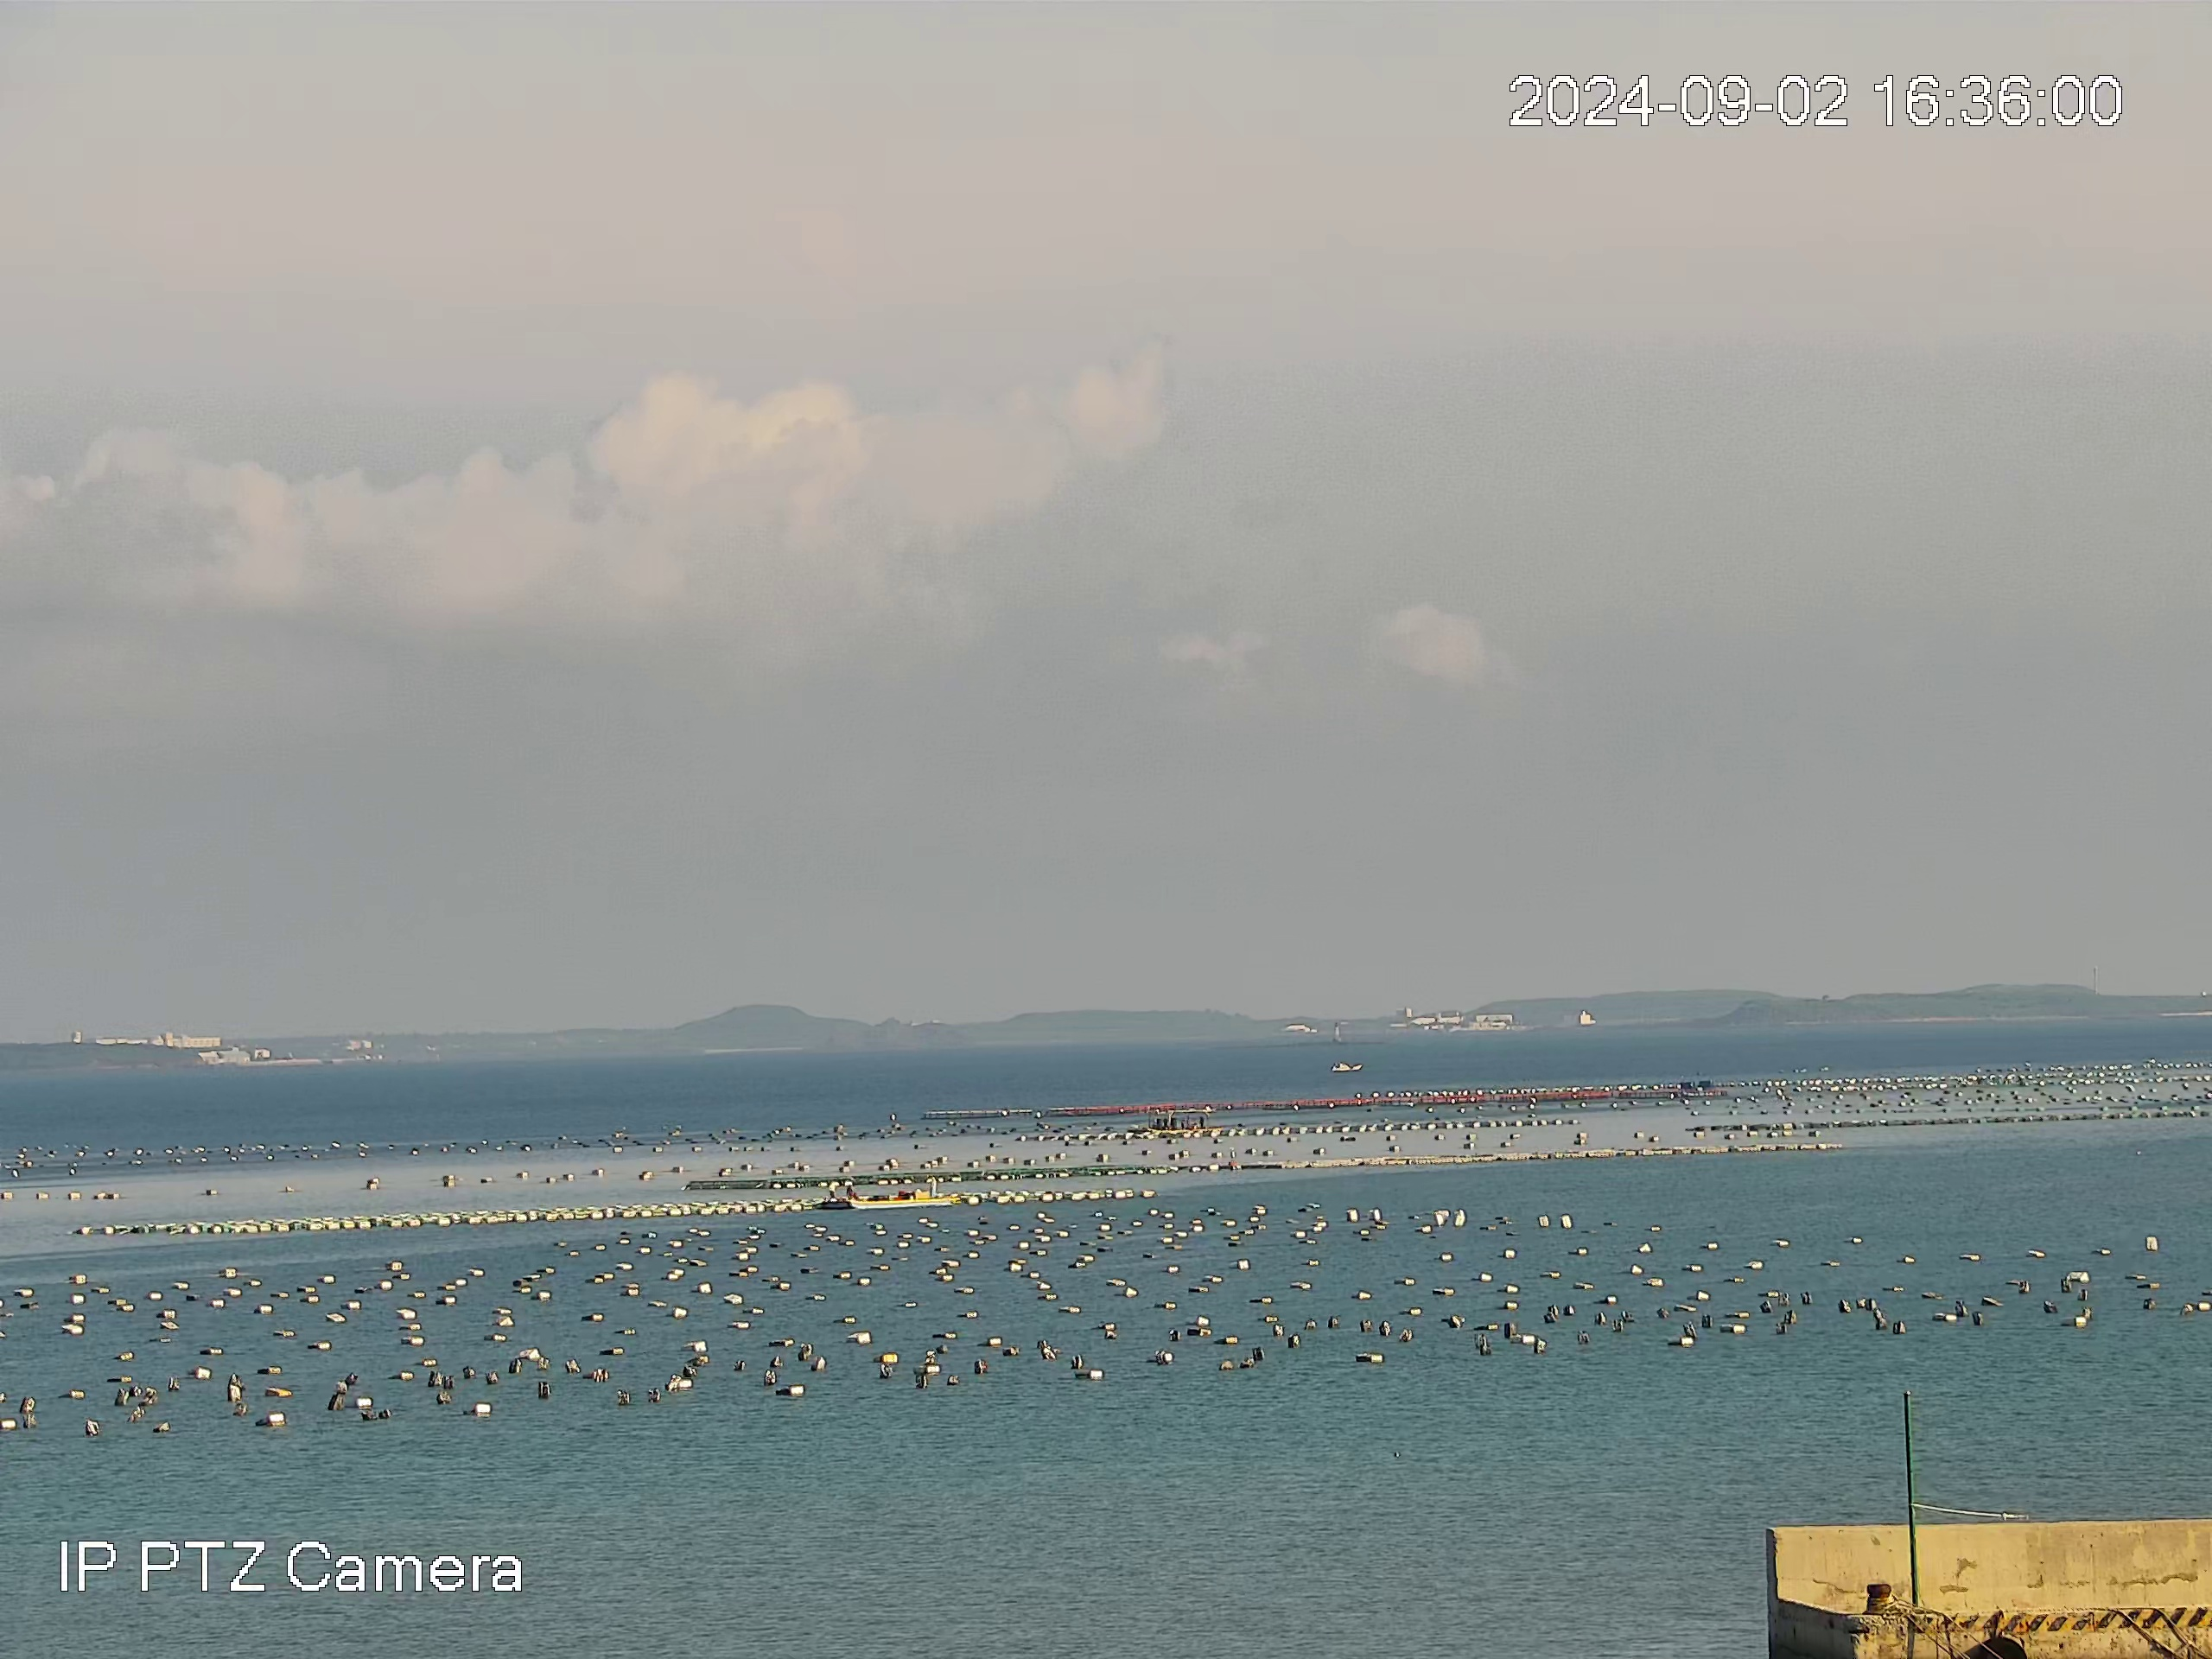boat: (843, 1176, 960, 1211), (1144, 1107, 1224, 1133), (1329, 1060, 1364, 1073)
